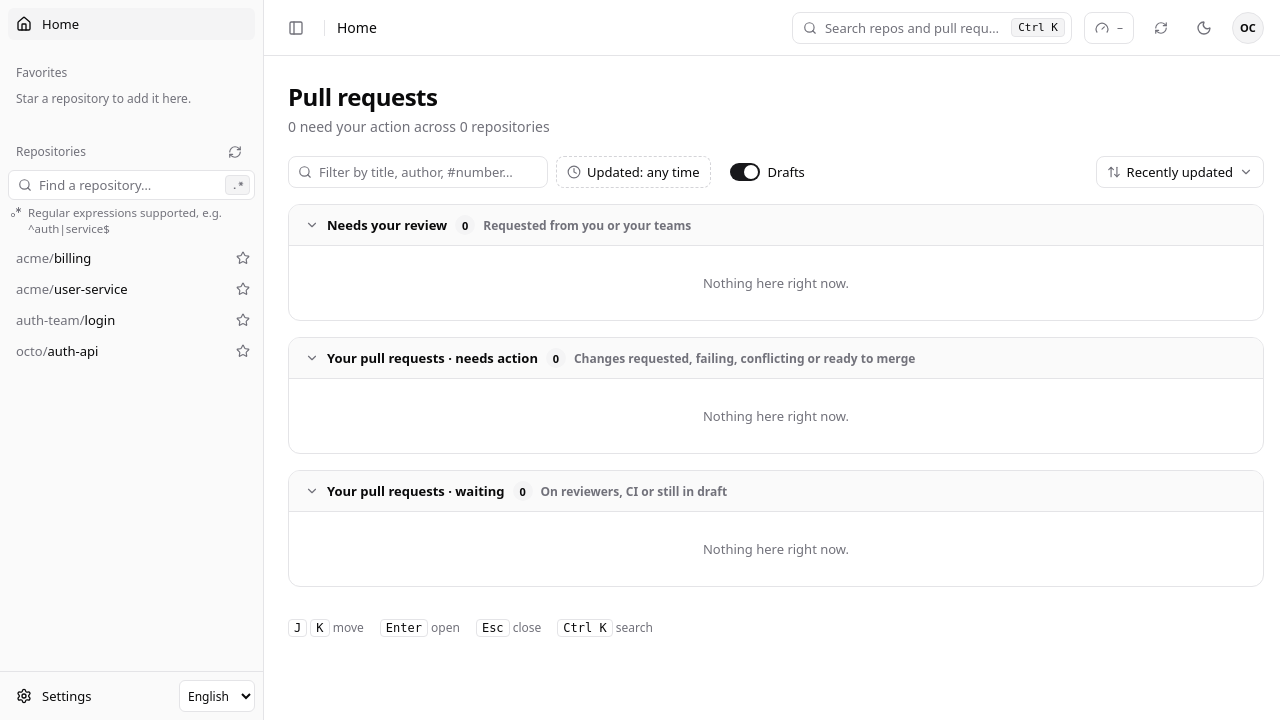
Scenario: a pattern that could backtrack catastrophically is refused, not run
In the search field named "Search repositories": (132, 185) [8,170,255,200], type "(a+)+$"
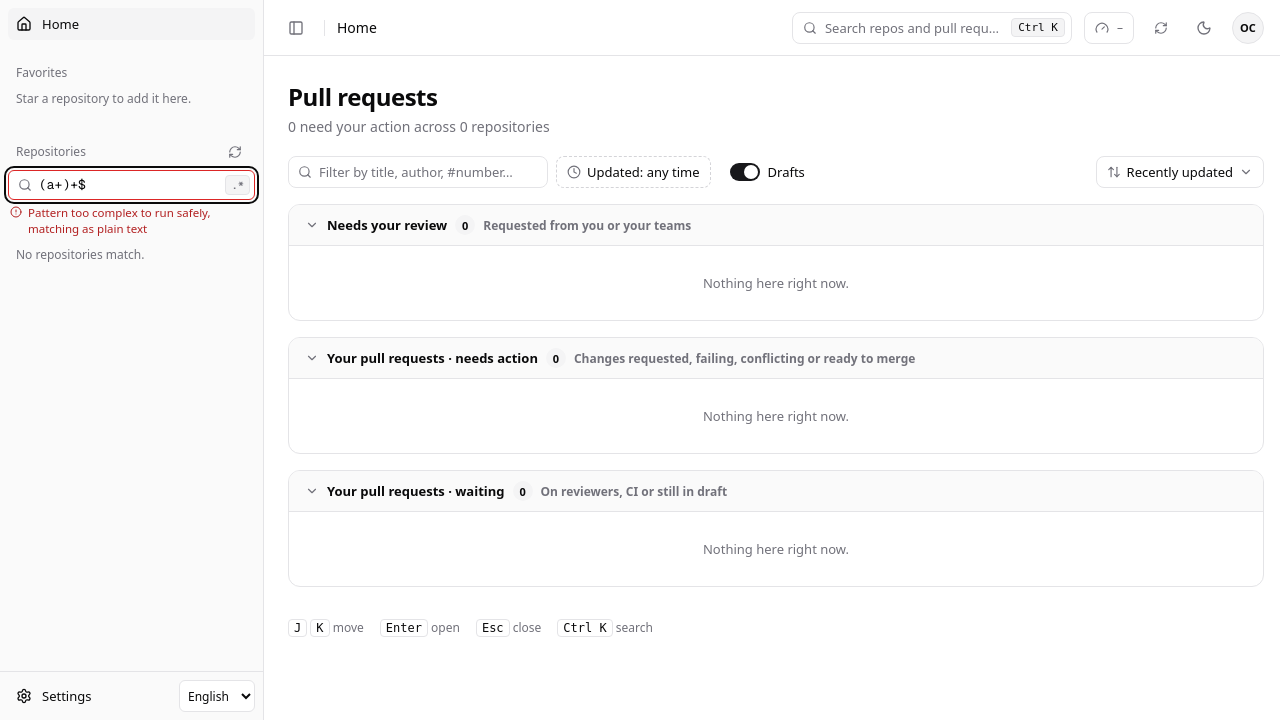
Result: the text "Pattern too complex to run safely, matching as plain text" is shown at [28,205,211,236]
